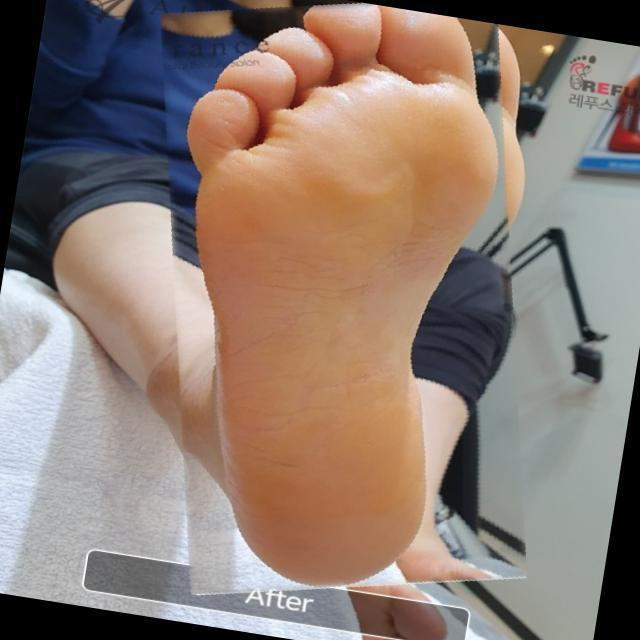No_Shoes: (156, 4, 501, 590)
